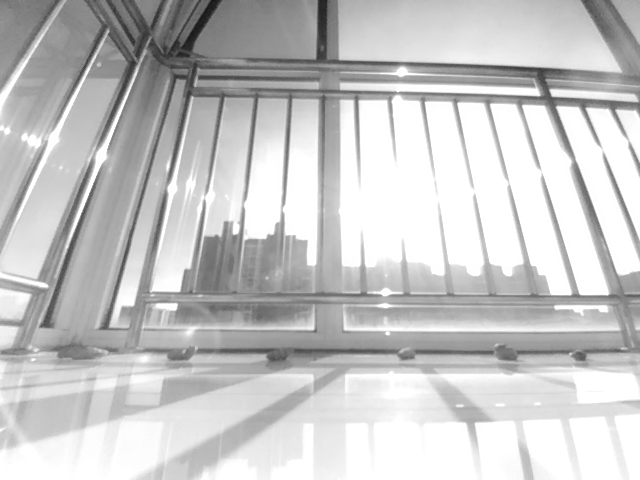pet feces: (57, 343, 108, 359), (493, 342, 520, 363), (166, 345, 199, 362), (264, 346, 295, 362), (398, 346, 417, 360), (570, 348, 589, 362)
